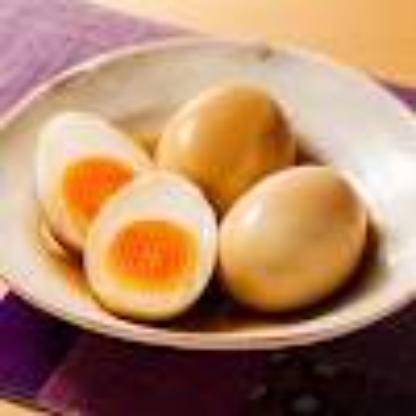egg: (205, 157, 378, 325), (153, 76, 297, 206)
